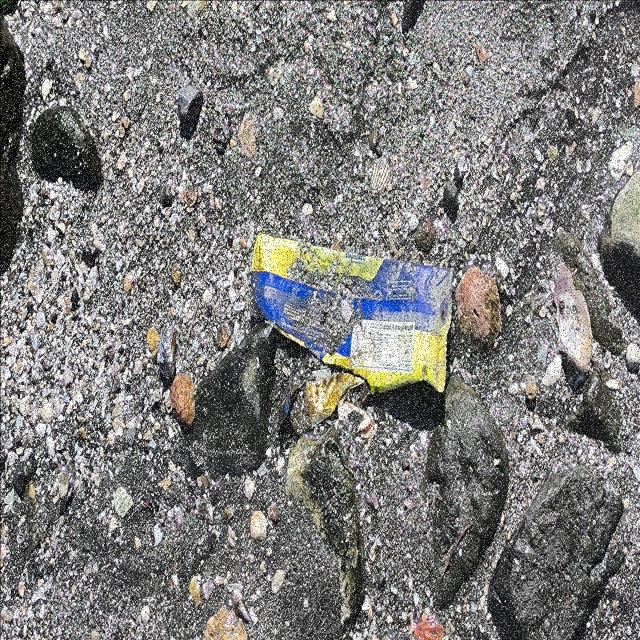plastic_waste: (251, 234, 453, 394)
